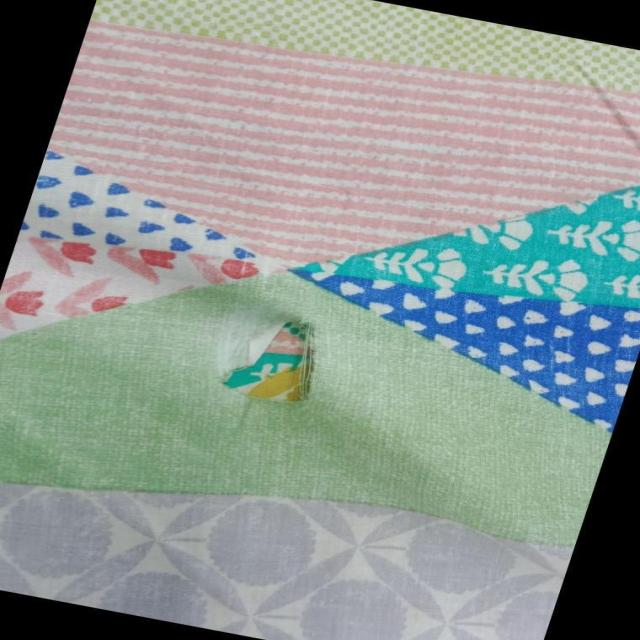cut: (212, 288, 350, 426)
